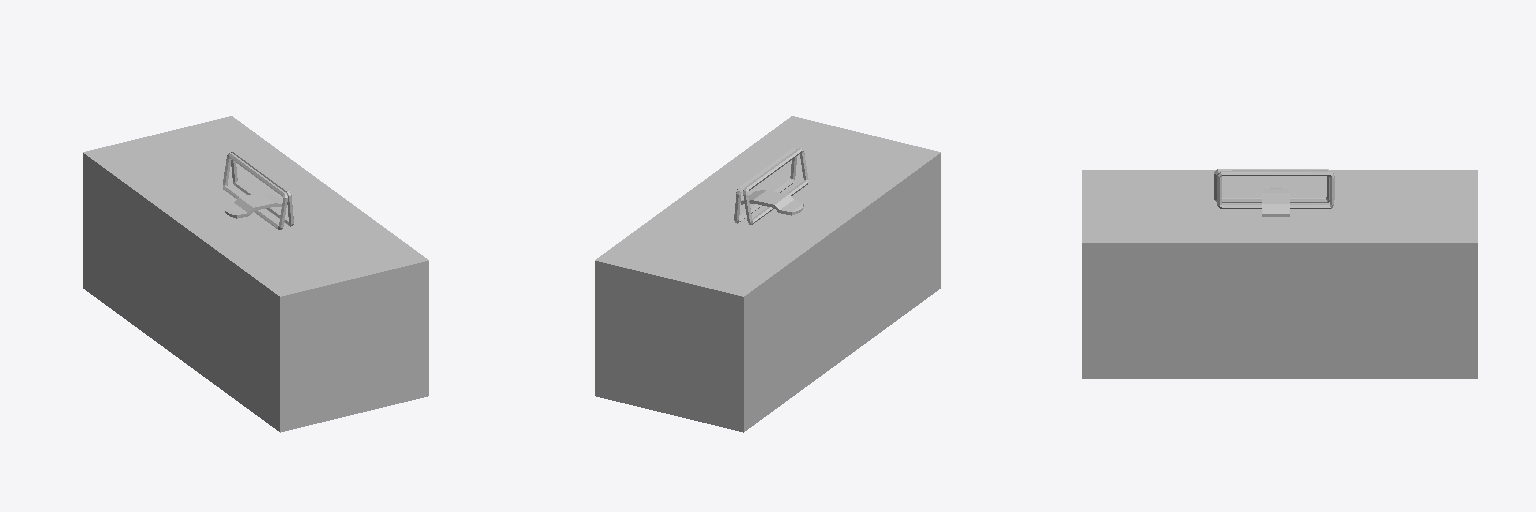
Rendered from Lod_Tool_box_close_1.obj.
3 renders of one model, left to right at view 1: azimuth 30°, elevation 25°; view 2: azimuth 150°, elevation 25°; view 3: azimuth 270°, elevation 25°, orthographic.
Parts seen in each view (by area): view 1: Tool_box_close_lod1; view 2: Tool_box_close_lod1; view 3: Tool_box_close_lod1.
Part boxes in pixels (x1,y1,x2,y2): Tool_box_close_lod1: (83,116,428,432); Tool_box_close_lod1: (595,116,940,432); Tool_box_close_lod1: (1082,169,1477,378).
Bounding box in the file's own units: 22.21 × 24.49 × 50.92.